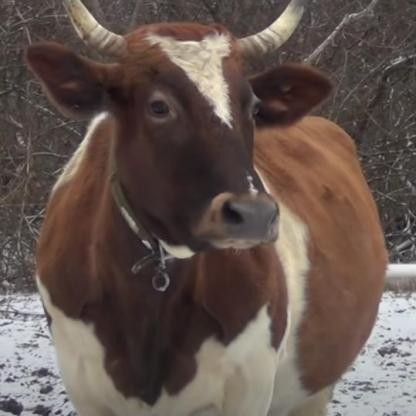cow: (22, 0, 389, 416)
